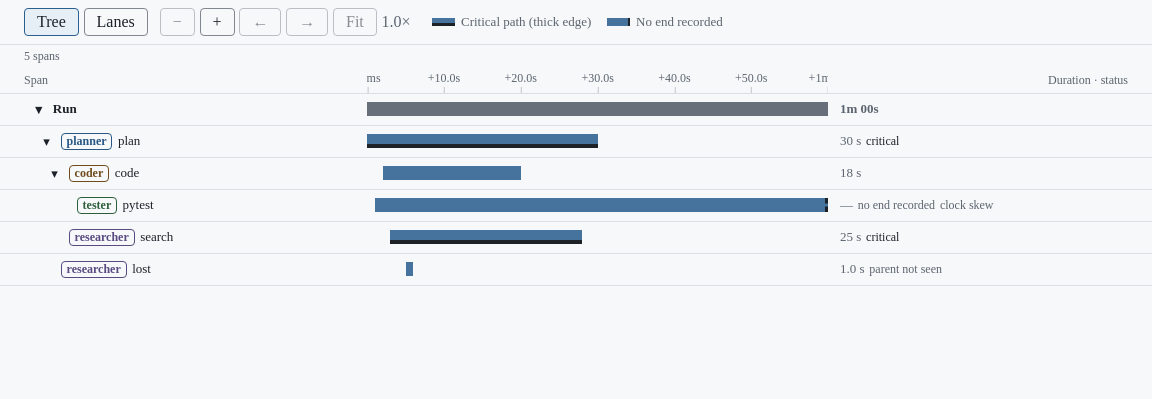
Waterfall keyboard and mouse › Lanes groups rows by agent with a header per lane
Click the button "Lanes". click: (116, 22)
box: [84, 8, 148, 36]
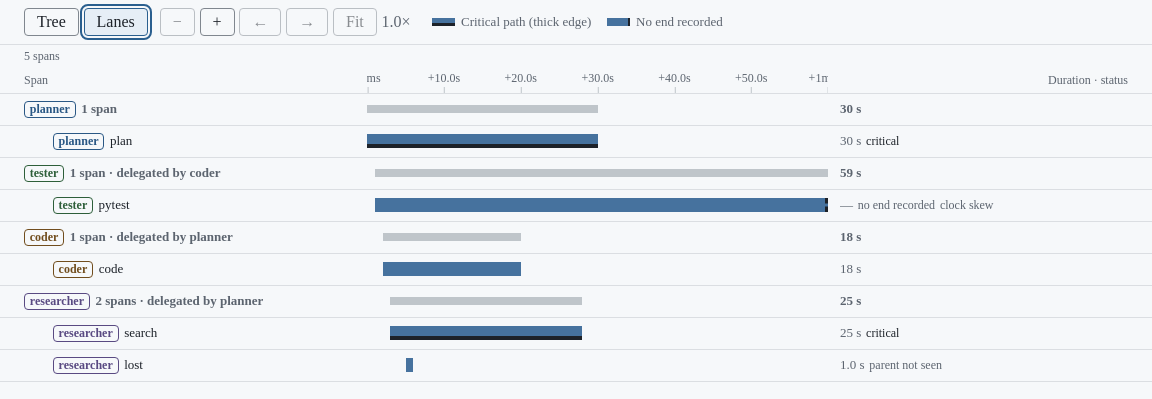
Now the text "1 span · delegated by planner" is shown, box [70, 229, 233, 245]
